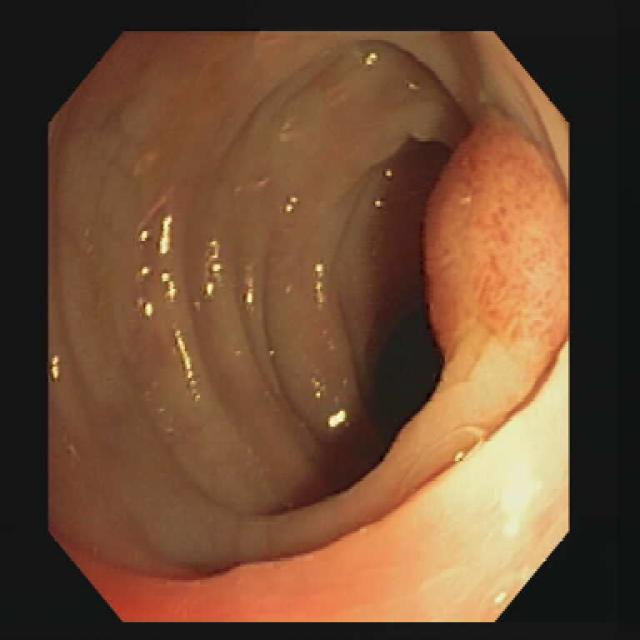tumor: (427, 120, 565, 364)
